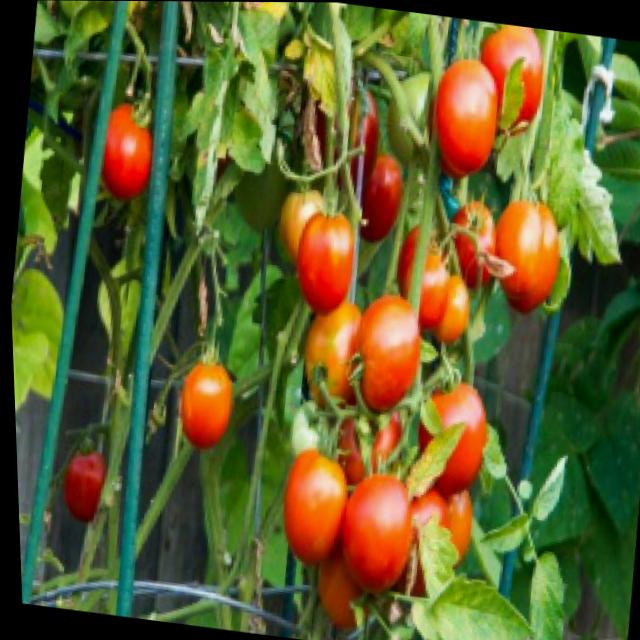tomato: (326, 469, 419, 597), (481, 195, 575, 321), (400, 375, 491, 504), (338, 289, 426, 420), (466, 20, 549, 158), (270, 446, 353, 572), (425, 55, 506, 184), (294, 296, 367, 411), (287, 210, 360, 320), (94, 90, 160, 203), (168, 358, 234, 454), (54, 428, 110, 526), (352, 150, 408, 245)
